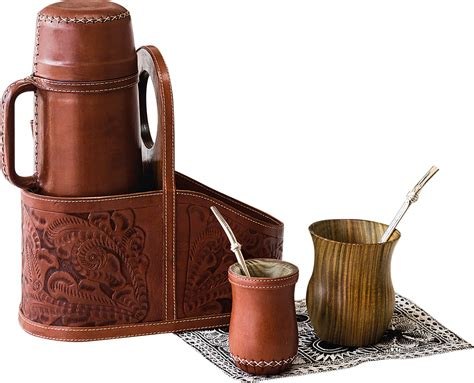cuero: (5, 1, 284, 343)
